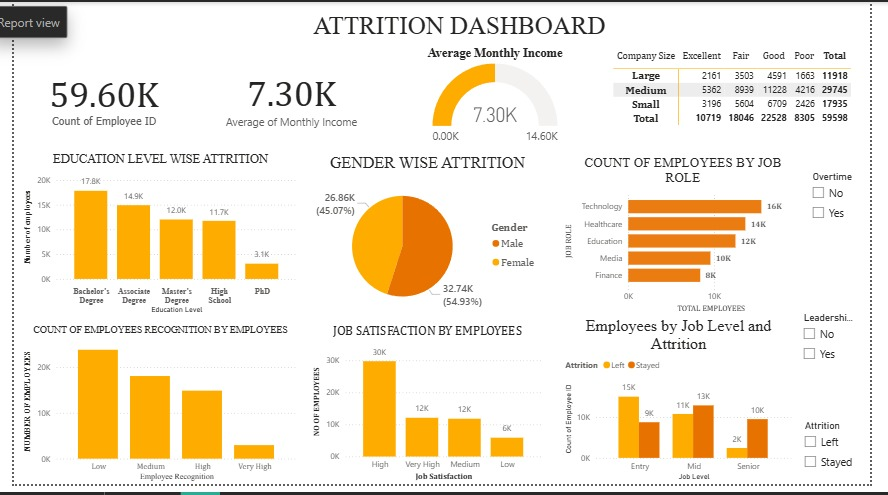

Layout of this report page (visuals, bound fields, positions):
{"tool":"powerbi","page":{"name":"Page 1","canvas":[1280,720],"ordinal":0},"visuals":[{"type":"textbox","box":[10.5,0,1269.7,65.7],"z":0},{"type":"card","fields":{"Values":["CountNonNull(train.Employee ID)"]},"box":[26.9,65.7,215.1,155.4],"z":1000},{"type":"card","fields":{"Values":["Avg(train.Monthly Income)"]},"box":[307.7,65.7,213.6,155.4],"z":2000},{"type":"clusteredColumnChart","title":"EDUCATION LEVEL WISE ATTRITION","fields":{"Category":["train.Education Level"],"Y":["CountNonNull(train.Attrition)"]},"box":[10.1,221.7,416.6,248.6],"z":3000},{"type":"pieChart","title":"GENDER WISE ATTRITION","fields":{"Category":["train.Gender"],"Y":["CountNonNull(train.Attrition)"]},"box":[442.2,227.1,351,249.5],"z":4000},{"type":"gauge","title":"Average Monthly Income","fields":{"Y":["Avg(train.Monthly Income)"]},"box":[587.1,65.7,262.9,155.4],"z":5000},{"type":"clusteredBarChart","title":"COUNT OF EMPLOYEES BY JOB ROLE","fields":{"Category":["train.Job Role"],"Y":["CountNonNull(train.Employee ID)"]},"box":[818.6,228.5,361.5,240.5],"z":6000},{"type":"columnChart","title":"COUNT OF EMPLOYEES RECOGNITION BY EMPLOYEES","fields":{"Category":["train.Employee Recognition"],"Y":["CountNonNull(train.Employee ID)"]},"box":[10.1,480.4,416.6,240.2],"z":7000},{"type":"columnChart","title":"JOB SATISFACTION BY EMPLOYEES","fields":{"Category":["train.Job Satisfaction"],"Y":["CountNonNull(train.Employee ID)"]},"box":[442.2,479.5,351,240.5],"z":8000},{"type":"pivotTable","fields":{"Columns":["train.Work-Life Balance"],"Rows":["train.Company Size"],"Values":["CountNonNull(train.Employee ID)"]},"box":[890.3,65.7,389.9,155.4],"z":9000},{"type":"clusteredColumnChart","title":"Employees by Job Level and Attrition","fields":{"Series":["train.Attrition"],"Category":["train.Job Level"],"Y":["CountNonNull(train.Employee ID)"]},"box":[818.6,470.5,348,249.5],"z":10000},{"type":"slicer","fields":{"Values":["train.Attrition"]},"box":[1168.1,619.9,112,95.6],"z":11000},{"type":"slicer","fields":{"Values":["train.Leadership Opportunities"]},"box":[1166.6,458.6,113.5,141.9],"z":12000},{"type":"slicer","fields":{"Values":["train.Overtime"]},"box":[1180.1,248,100.1,112],"z":13000}]}

Visuals, with their boxes on the page's 1280x720 design canvas (x1, y1, x2, y2). These are canvas units, not pixel positions in the 888x495 screenshot, which may show the page scaled, cropped or inside an application window:
textbox: detection(10, 0, 1280, 66)
card - CountNonNull(train.Employee ID): detection(27, 66, 242, 221)
card - Avg(train.Monthly Income): detection(308, 66, 521, 221)
"EDUCATION LEVEL WISE ATTRITION" clusteredColumnChart: detection(10, 222, 427, 470)
"GENDER WISE ATTRITION" pieChart: detection(442, 227, 793, 477)
"Average Monthly Income" gauge: detection(587, 66, 850, 221)
"COUNT OF EMPLOYEES BY JOB ROLE" clusteredBarChart: detection(819, 228, 1180, 469)
"COUNT OF EMPLOYEES RECOGNITION BY EMPLOYEES" columnChart: detection(10, 480, 427, 721)
"JOB SATISFACTION BY EMPLOYEES" columnChart: detection(442, 480, 793, 720)
pivotTable - train.Work-Life Balance x train.Company Size: detection(890, 66, 1280, 221)
"Employees by Job Level and Attrition" clusteredColumnChart: detection(819, 470, 1167, 720)
slicer - train.Attrition: detection(1168, 620, 1280, 716)
slicer - train.Leadership Opportunities: detection(1167, 459, 1280, 600)
slicer - train.Overtime: detection(1180, 248, 1280, 360)
